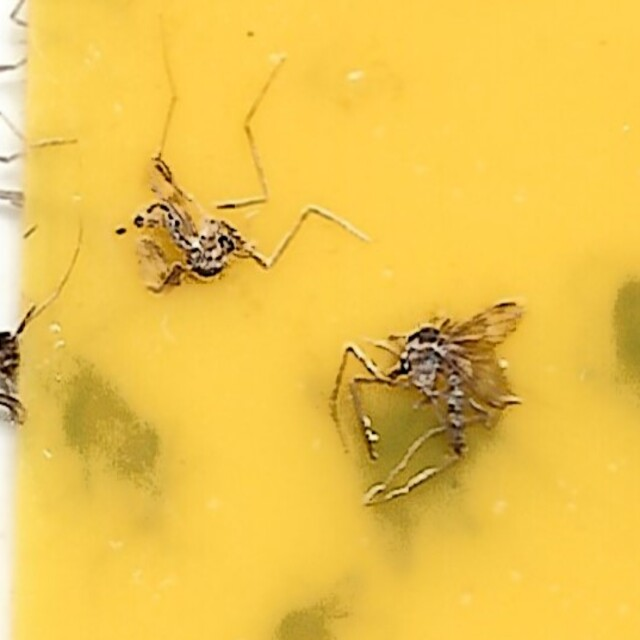Nematocera: (342, 300, 521, 490), (119, 150, 269, 300)
